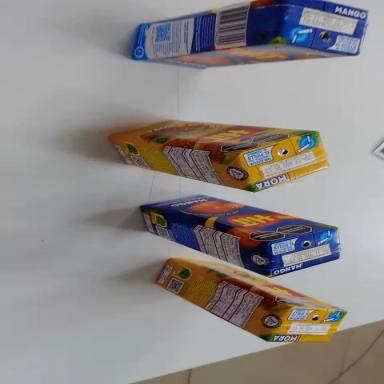HIT-MANGO: (132, 182, 346, 292), (129, 0, 371, 73)
HIT-MORA: (150, 239, 346, 365), (106, 115, 331, 197)
cara_F: (138, 180, 337, 260), (171, 244, 346, 328), (108, 114, 316, 161), (138, 36, 352, 74)
